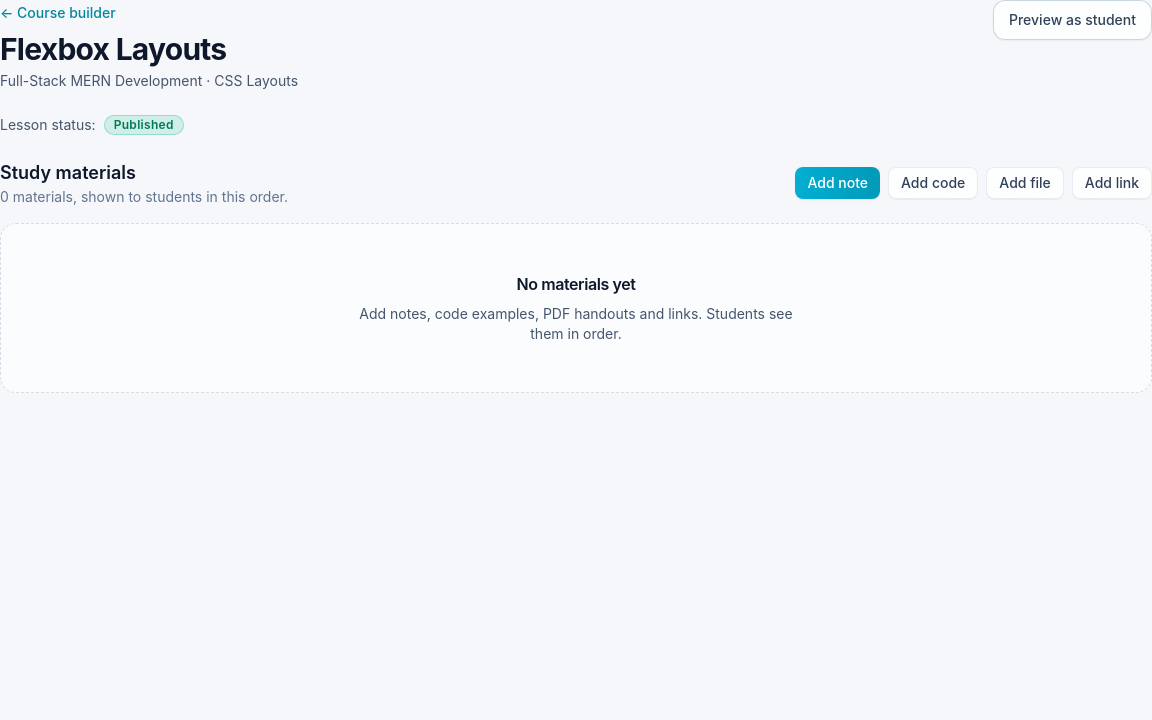
Test case: LessonMaterialsPage › requires a note body
This screenshot has width=1152, height=720.
Click the button "Add note".
click(838, 183)  # box [796,167,880,199]
(page scrolled)
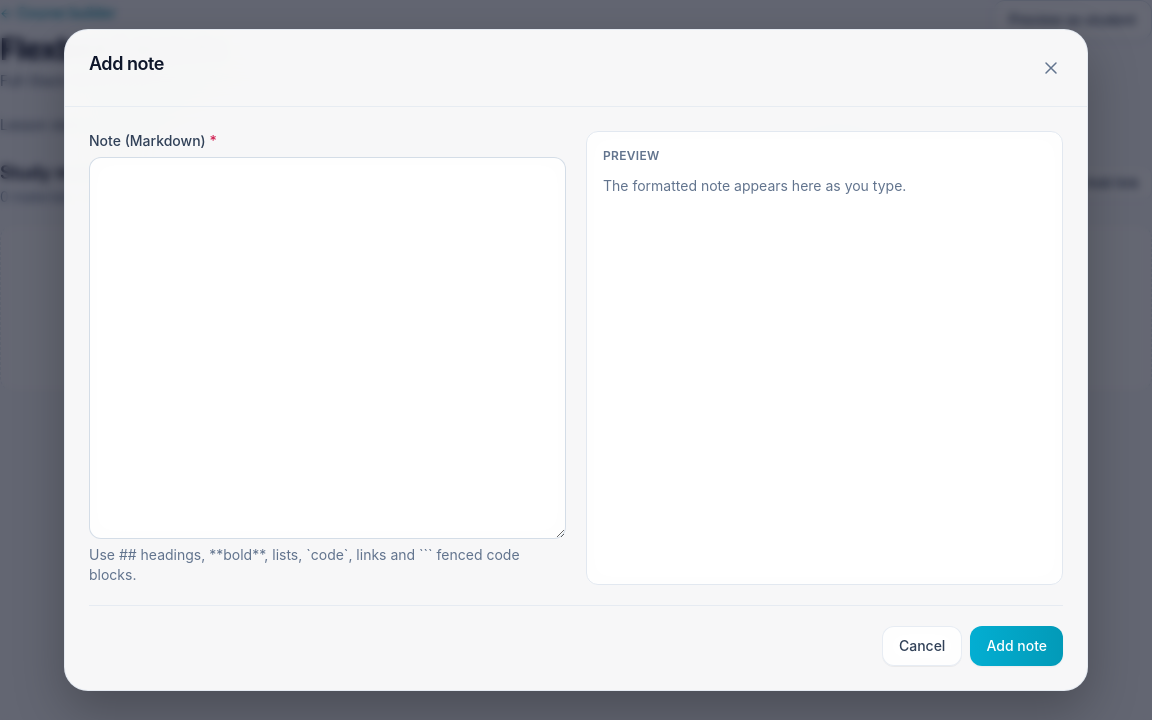
Click the button "Add note".
click(1017, 646)  # box [970,626,1063,666]
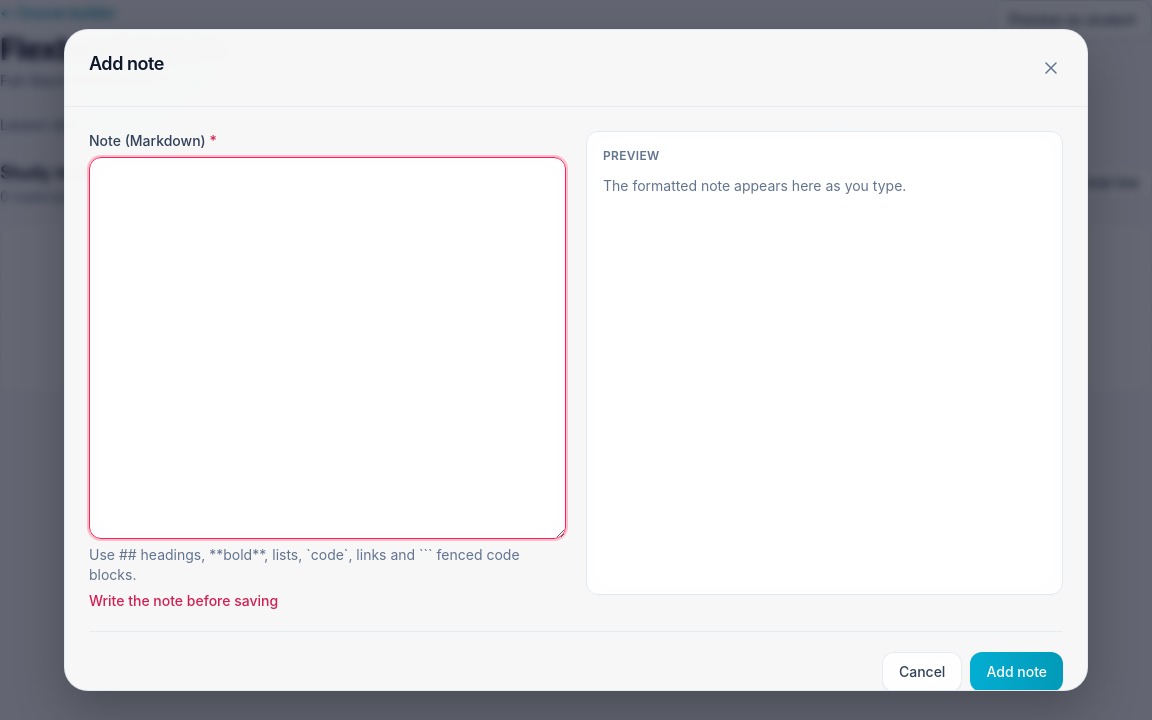
Result: the text "Write the note before saving" is shown at [89,592,278,609]
